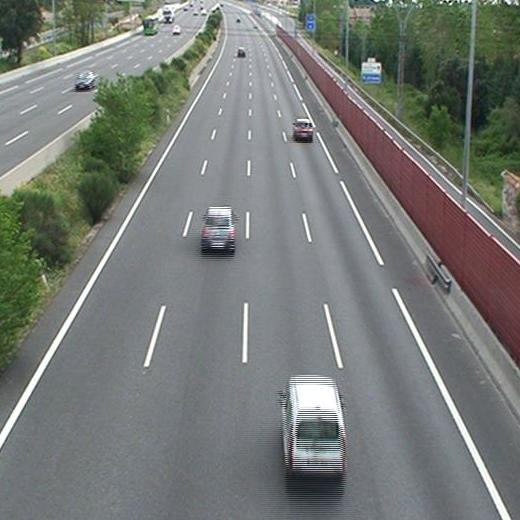car: (202, 208, 234, 246), (294, 119, 312, 137), (236, 47, 245, 56)
van: (282, 378, 345, 477)
